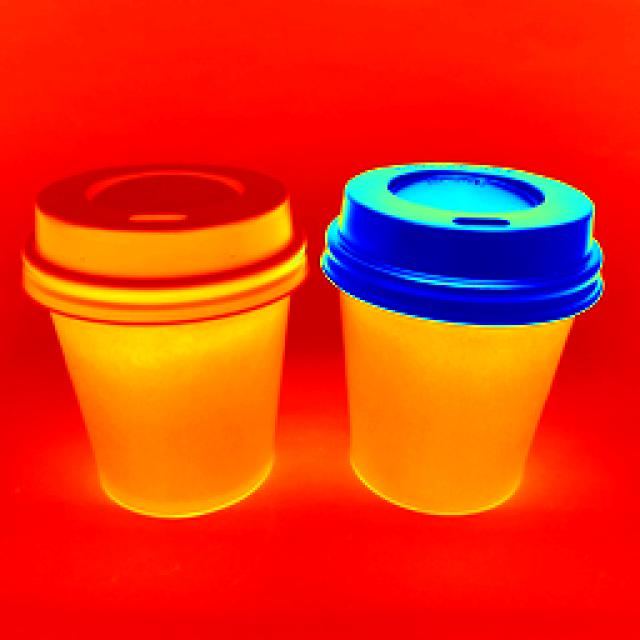Paper Cups: (22, 168, 294, 510), (320, 179, 564, 531)
